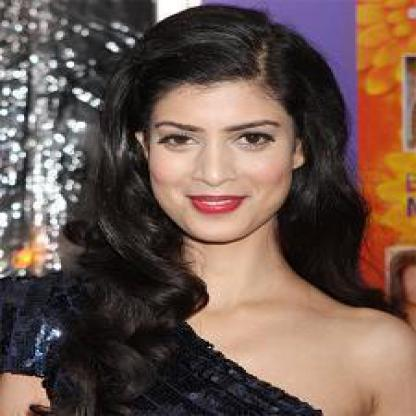long-hair: (63, 240, 373, 293)
